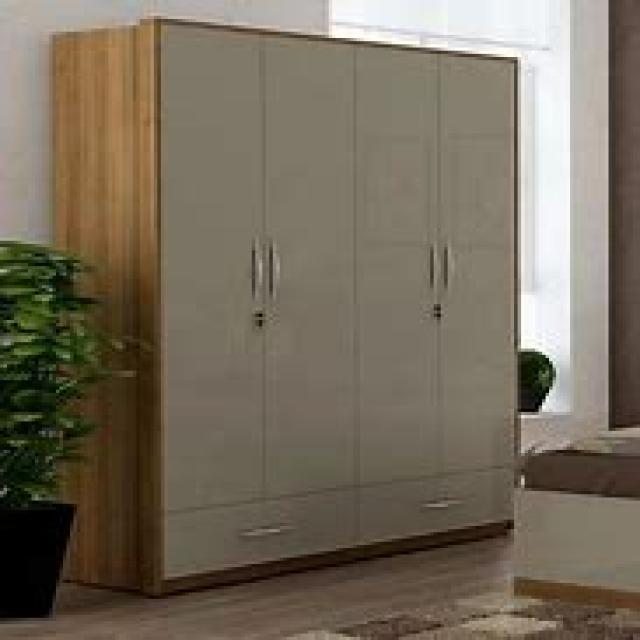dolap: (49, 12, 521, 596)
